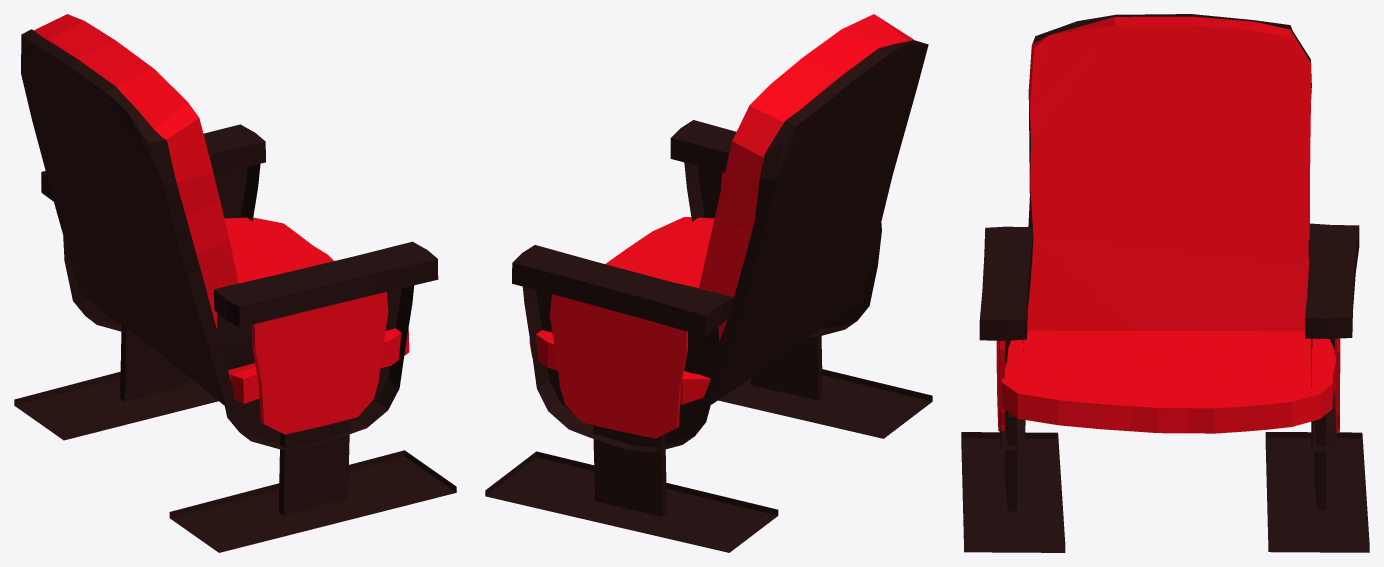
File: kinositz.glb
3 renders of one model, left to right at view 1: azimuth 30°, elevation 25°; view 2: azimuth 150°, elevation 25°; view 3: azimuth 270°, elevation 25°, orthographic.
Parts seen in each view (by area): view 1: Plane.001; view 2: Plane.001; view 3: Plane.001.
Part boxes in pixels (x1,y1,x2,y2): Plane.001: (14, 14, 456, 552); Plane.001: (485, 14, 932, 552); Plane.001: (961, 14, 1369, 552).
Size of the model in its own units: 0.4251 by 0.6315 by 0.554.
Materials: 2 (2 with a texture image).
